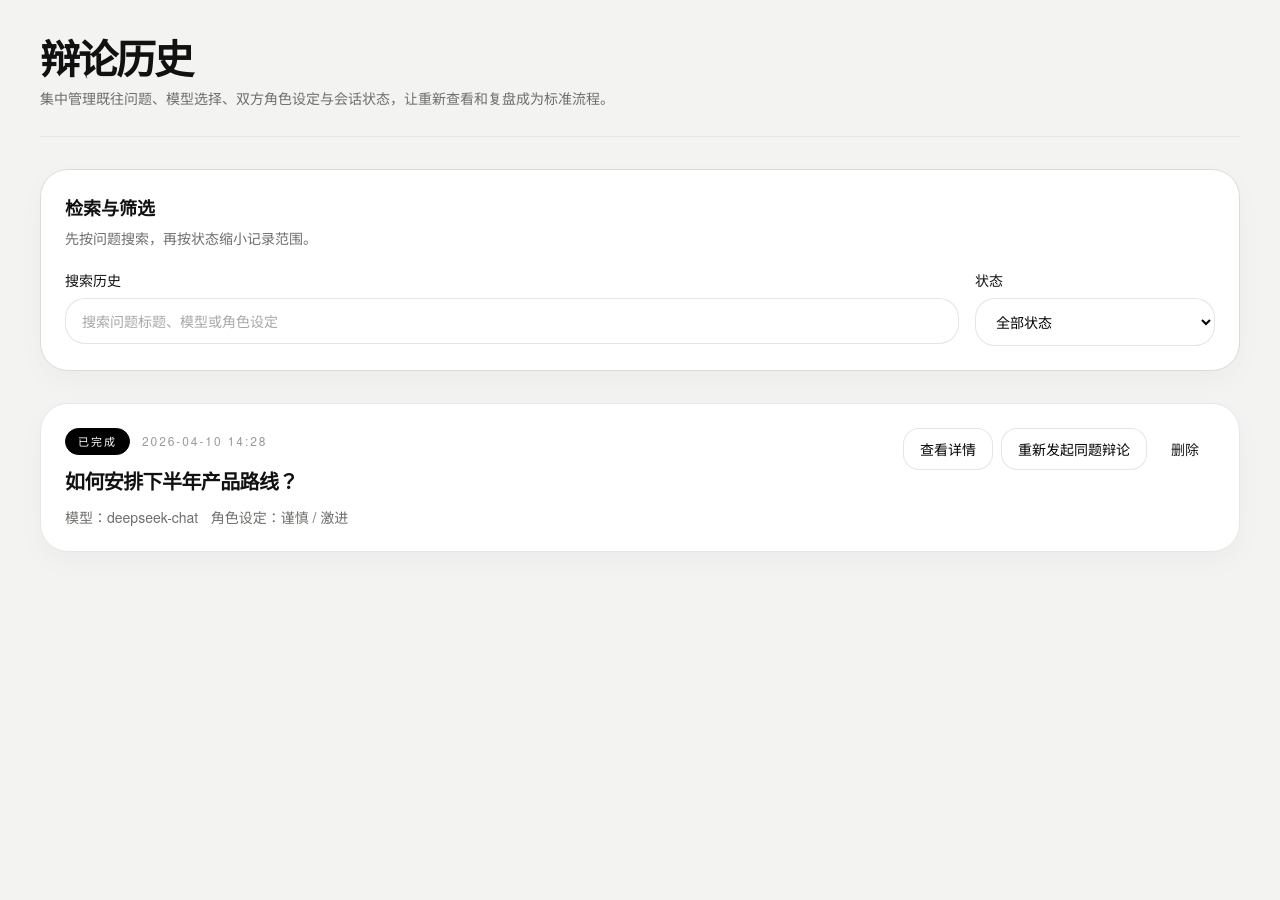
Scenario: HistoryPage › cancels a delete confirmation dialog before removing the card
Click the button "删除". click: (1185, 449)
box: [1155, 428, 1215, 470]
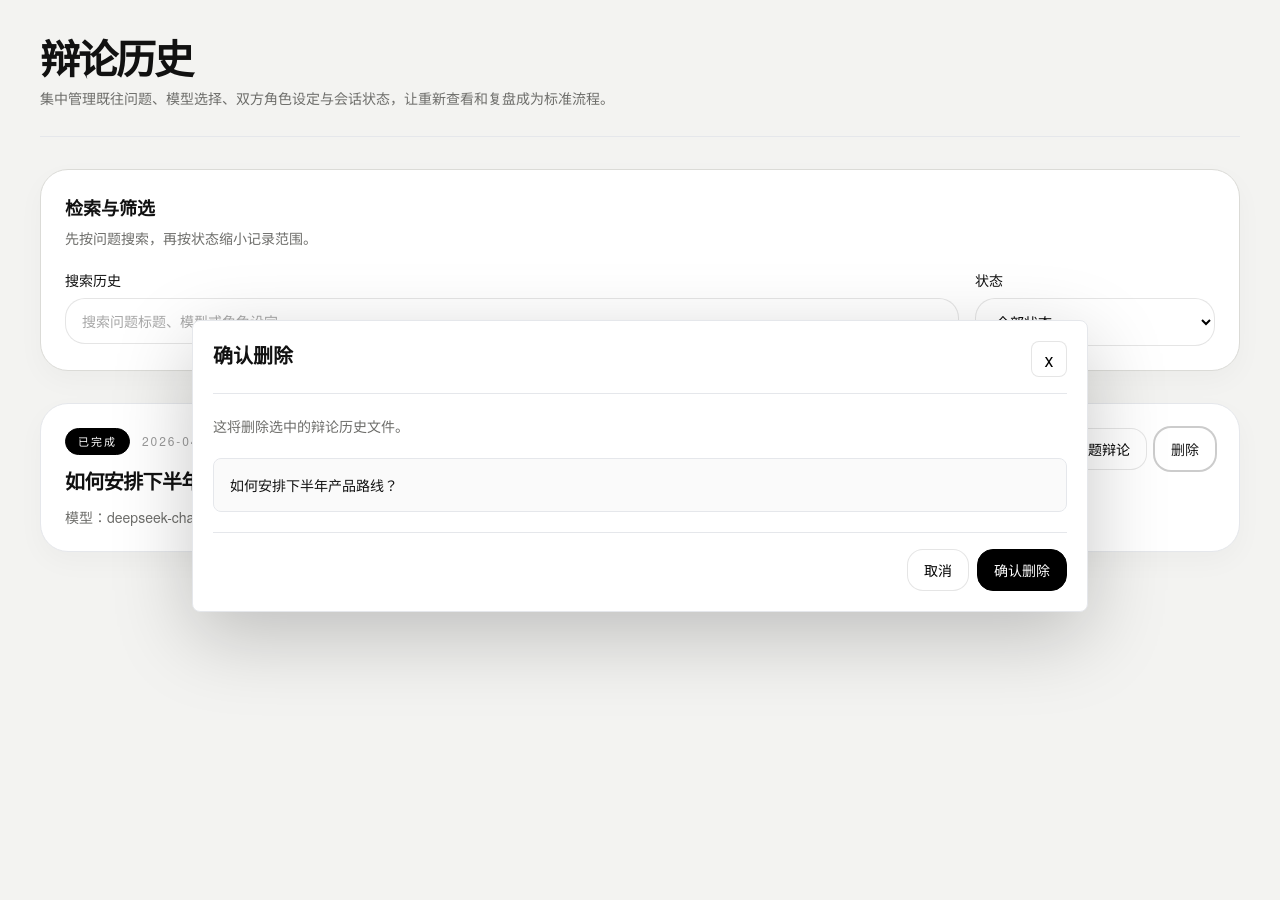
Click the button "取消". click: (938, 570)
box: [907, 549, 969, 591]
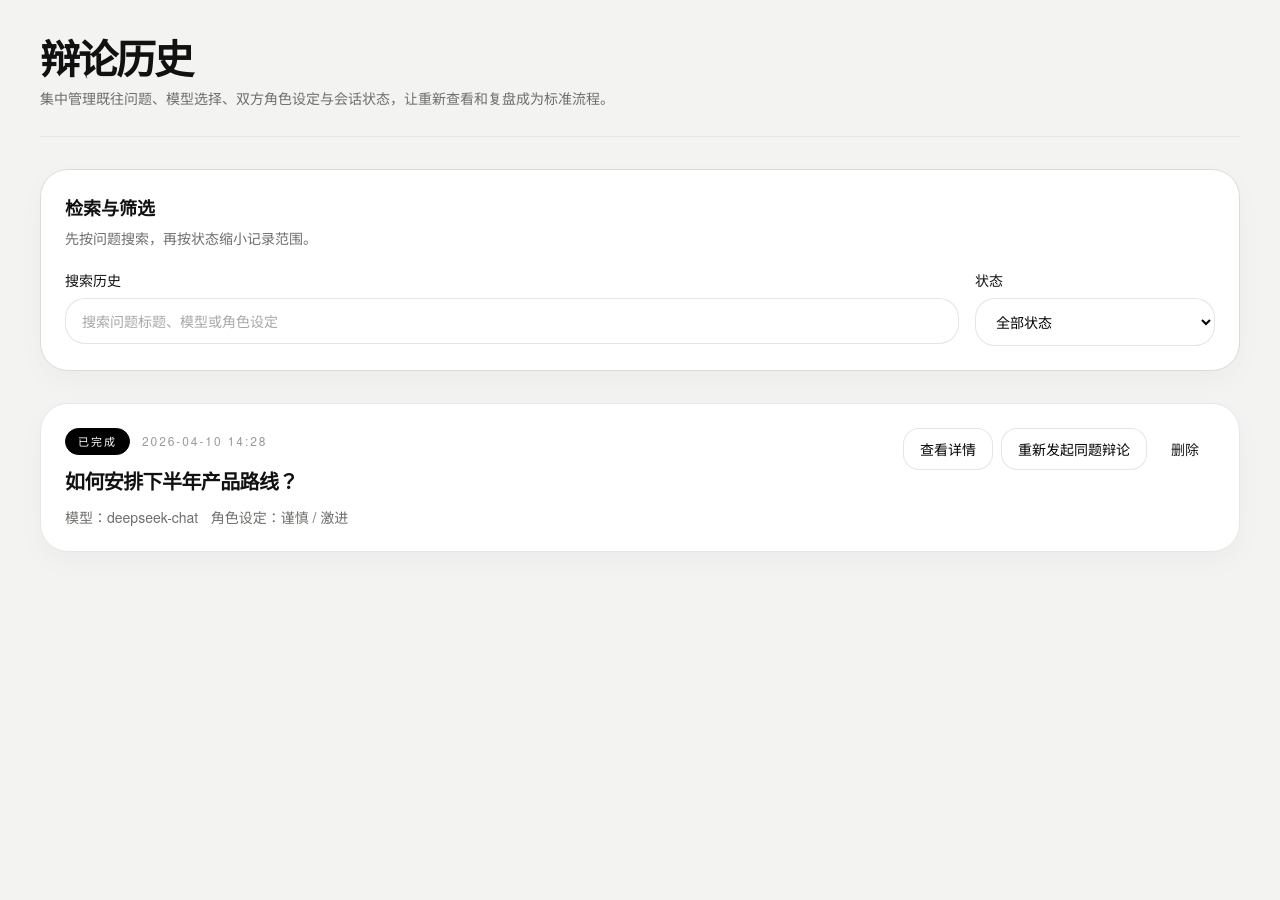
Check: the button "删除" is shown, box [1155, 428, 1215, 470]
Check: the heading "确认删除" is gone
